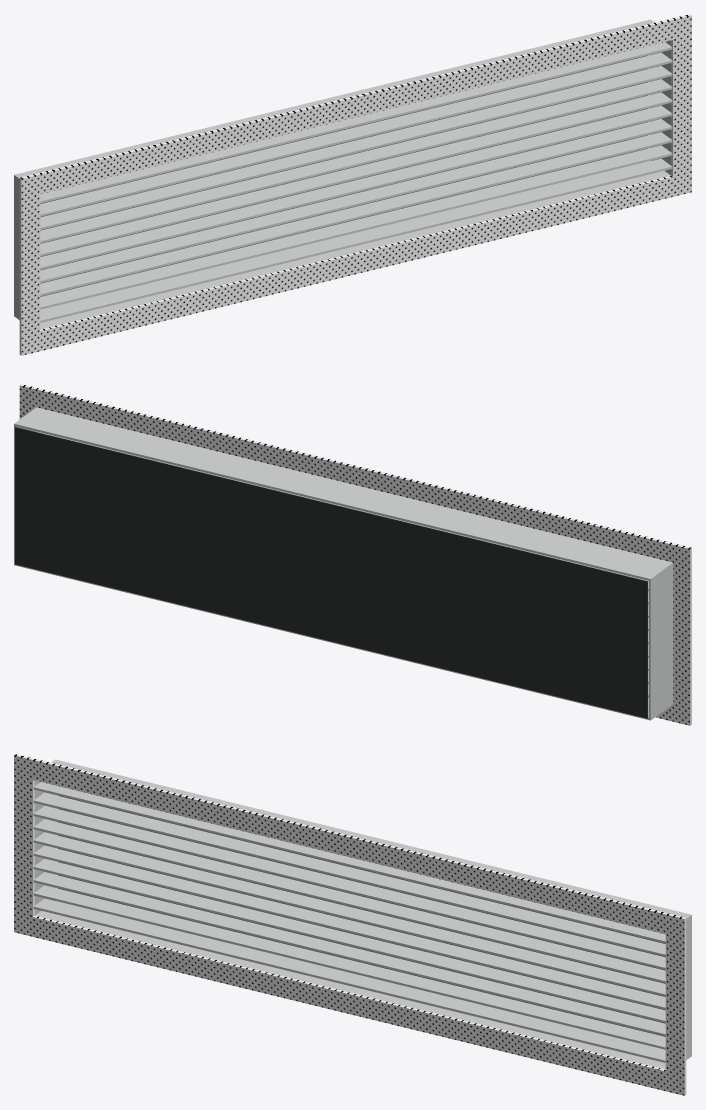
The model's file is ecoclima-ebls-600x125.glb.
The picture shows the model from 3 angles, top to bottom: view 1: azimuth 30°, elevation 25°; view 2: azimuth 150°, elevation 25°; view 3: azimuth 330°, elevation 25°; orthographic projection.
Parts seen in each view (by area): view 1: Profile_cornice, Profile_cornice.001, Profile_barra.005, Profile_barra.006, Profile_barra.008, Profile_barra, Profile_barra.001, Profile_barra.004, Profile_barra.007, Profile_barra.002, Profile_barra.003, Profile_barra.009 (+7 smaller); view 2: Interno, Profile_ritorno, Profile_cornice, Profile_ritorno.002, Profile_cornice.002, Profile_ritorno.001, Profile_barra.008, Profile_cornice.001; view 3: Profile_cornice, Profile_cornice.001, Profile_barra.005, Profile_barra.006, Profile_barra.008, Profile_barra, Profile_barra.001, Profile_barra.004, Profile_barra.007, Profile_barra.002, Profile_barra.003, Profile_barra.009 (+7 smaller).
Part boxes in pixels (bbox=[...]): Profile_cornice: bbox=[19, 14, 691, 198]; Profile_cornice.001: bbox=[19, 172, 691, 355]; Profile_barra.005: bbox=[40, 92, 672, 256]; Profile_barra.006: bbox=[40, 79, 672, 243]; Profile_barra.008: bbox=[40, 52, 672, 216]; Profile_barra: bbox=[40, 158, 672, 322]; Profile_barra.001: bbox=[40, 145, 672, 309]; Profile_barra.004: bbox=[40, 105, 672, 269]; Profile_barra.007: bbox=[40, 66, 672, 229]; Profile_barra.002: bbox=[40, 132, 672, 296]; Profile_barra.003: bbox=[40, 119, 672, 282]; Profile_barra.009: bbox=[40, 42, 672, 203]; Interno: bbox=[15, 427, 647, 718]; Profile_ritorno: bbox=[14, 407, 673, 581]; Profile_cornice: bbox=[19, 384, 691, 568]; Profile_ritorno.002: bbox=[648, 565, 673, 718]; Profile_cornice.002: bbox=[673, 565, 691, 705]; Profile_ritorno.001: bbox=[14, 563, 673, 720]; Profile_barra.008: bbox=[37, 432, 648, 591]; Profile_cornice.001: bbox=[655, 702, 691, 725]; Profile_cornice: bbox=[14, 754, 686, 938]; Profile_cornice.001: bbox=[14, 912, 686, 1095]; Profile_barra.005: bbox=[33, 832, 665, 996]; Profile_barra.006: bbox=[33, 819, 665, 983]; Profile_barra.008: bbox=[33, 792, 665, 956]; Profile_barra: bbox=[33, 898, 665, 1062]; Profile_barra.001: bbox=[33, 885, 665, 1049]; Profile_barra.004: bbox=[33, 845, 665, 1009]; Profile_barra.007: bbox=[33, 806, 665, 969]; Profile_barra.002: bbox=[33, 872, 665, 1036]; Profile_barra.003: bbox=[33, 859, 665, 1022]; Profile_barra.009: bbox=[33, 782, 665, 943].
Size of the model in its own units: 0.635 by 0.16 by 0.042.
Materials: 3 (1 with a texture image).
